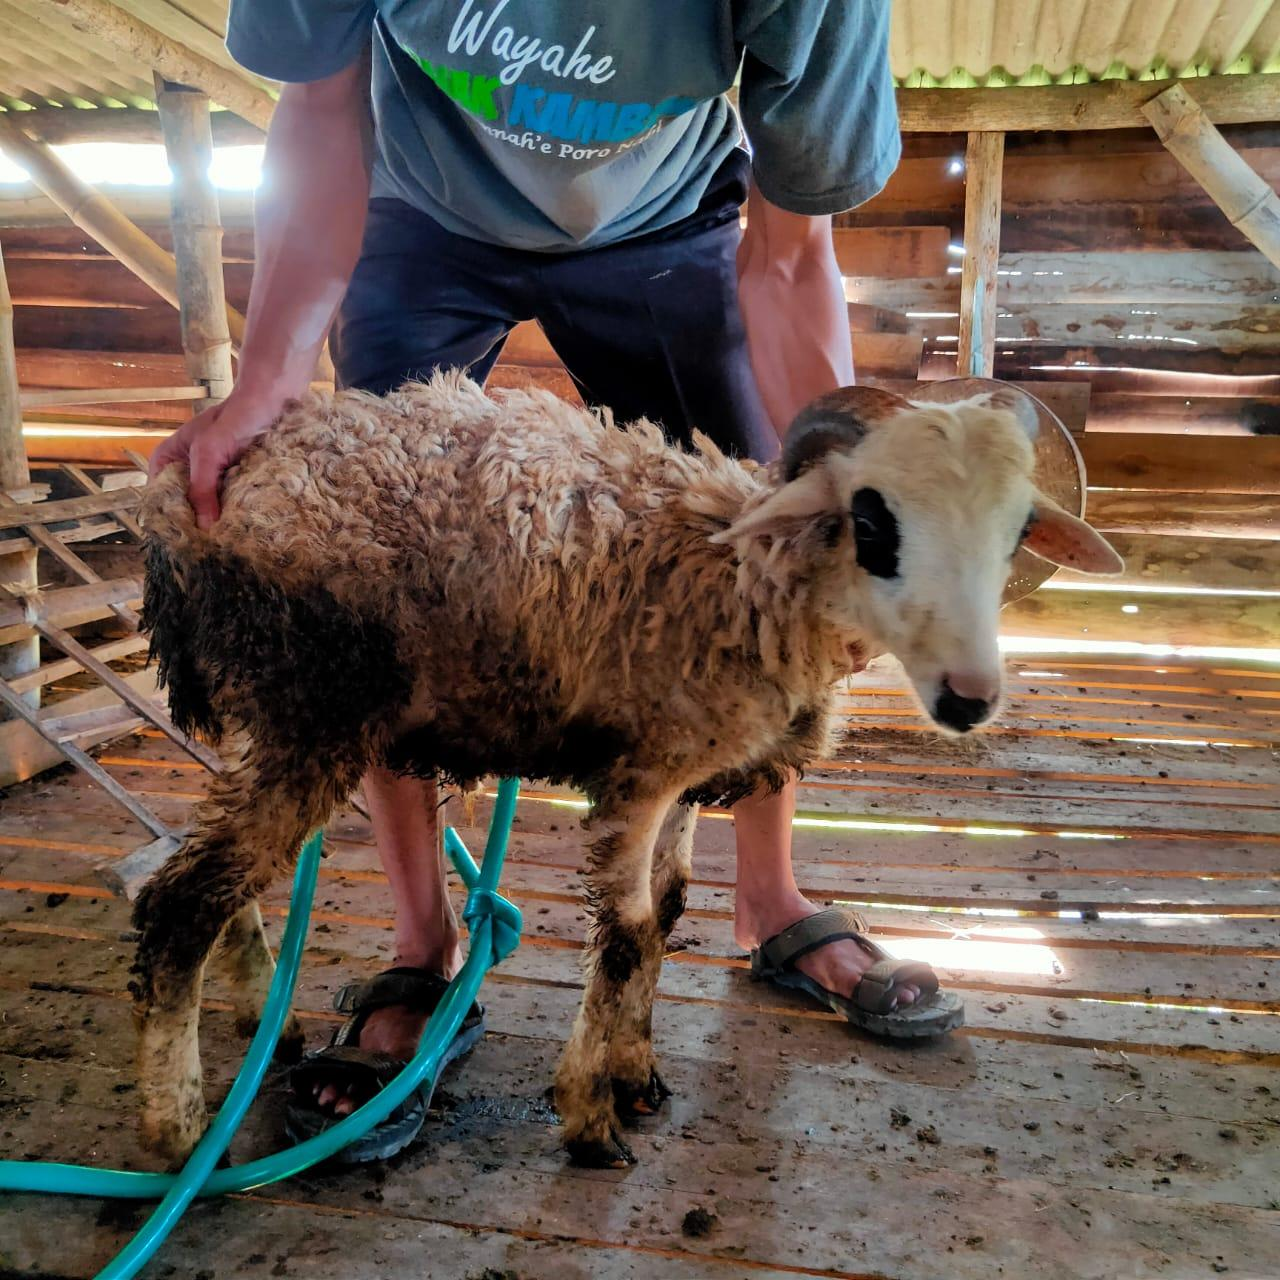Sheep: (702, 356, 1142, 760)
